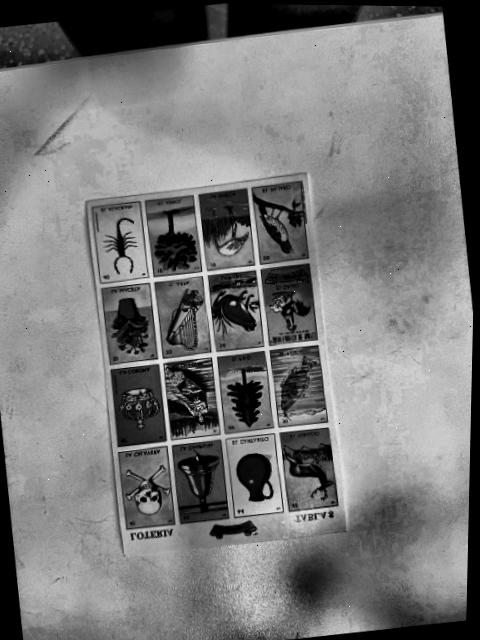El Alacran: (94, 201, 149, 282)
El Arbol: (147, 193, 203, 276)
El Arpa: (157, 273, 214, 357)
El Cantarito: (228, 432, 287, 517)
El Gallo: (263, 262, 318, 344)
El Pajaro: (253, 180, 309, 263)
El Pescado: (273, 342, 329, 426)
El Pino: (217, 349, 275, 433)
El Venado: (281, 426, 340, 510)
La Calavera: (86, 170, 350, 556), (121, 445, 177, 529)
La Campana: (174, 438, 232, 522)
La Chalupa: (165, 357, 222, 440)
La Corona: (113, 364, 169, 446)
La Garza: (200, 187, 256, 269)
La Maceta: (102, 281, 161, 364)
La Rana: (209, 268, 267, 352)
